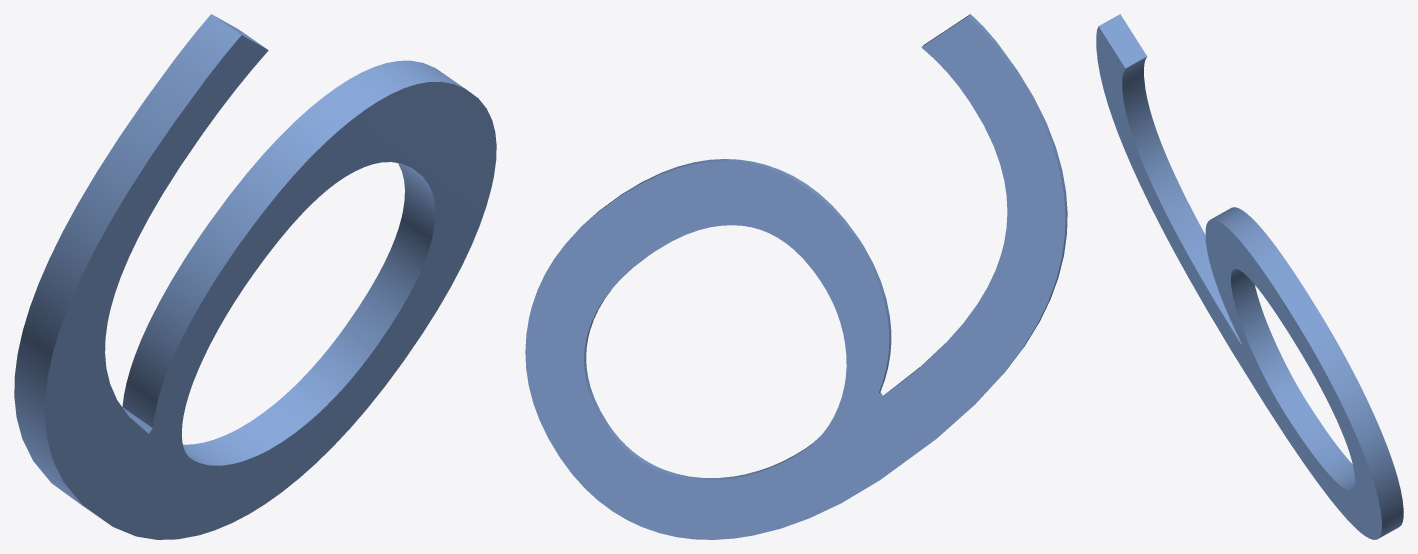
File: New_Number_9.gltf
The picture shows the model from 3 angles, left to right: view 1: azimuth 30°, elevation 25°; view 2: azimuth 150°, elevation 25°; view 3: azimuth 270°, elevation 25°; orthographic projection. The views are drawn at different scales.
Parts seen in each view (by area): view 1: Part 27; view 2: Part 27; view 3: Part 27.
Boxes of the visible parts, x1=… form: Part 27: x1=14, y1=14, x2=496, y2=539; Part 27: x1=525, y1=14, x2=1067, y2=539; Part 27: x1=1096, y1=14, x2=1403, y2=539.
Size of the model in its own units: 0.00464 by 0.00487 by 0.00306.
